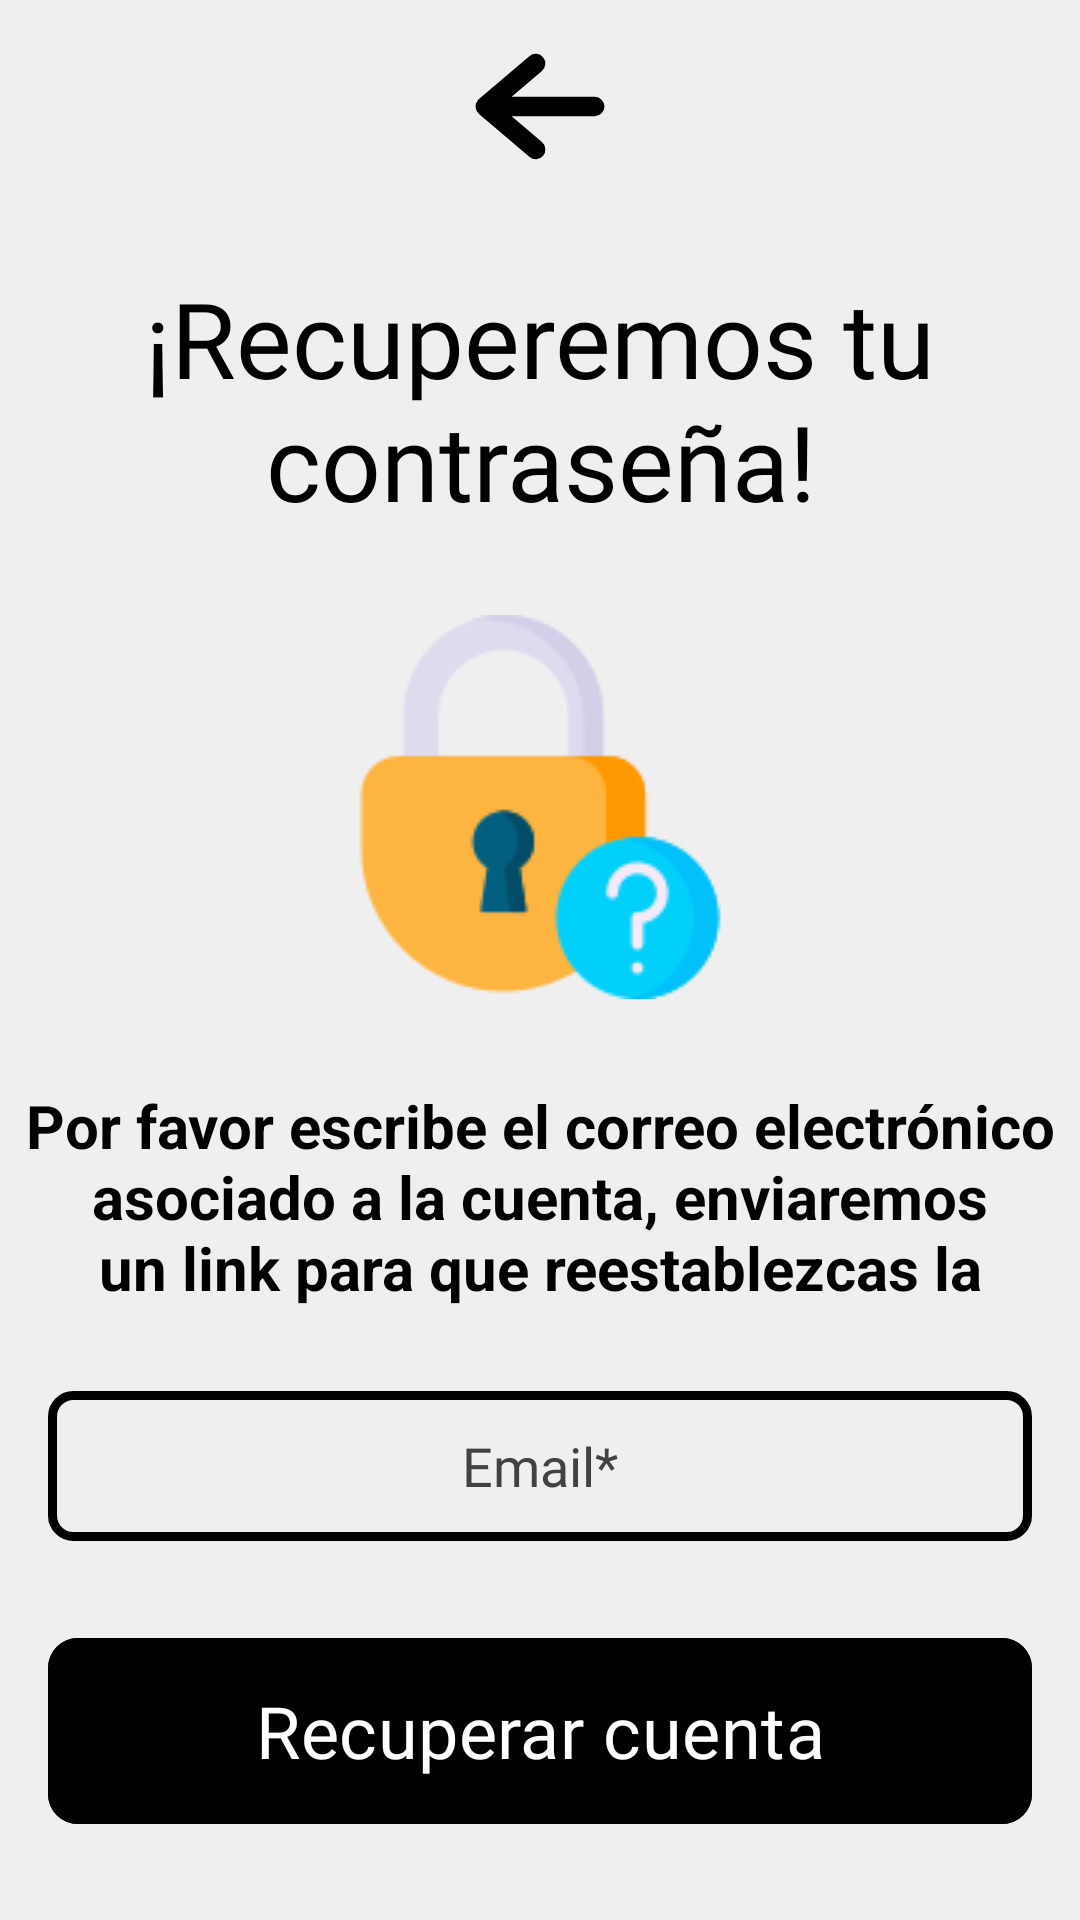

Locate icon controls on the screen. Image size 1080w x 1920h, boxes as (x1=x1, y1=y1, x2=x2, y2=y2).
Atrás: (x1=475, y1=53, x2=605, y2=160)
